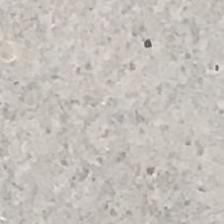Non_Crack: (15, 25, 224, 199)
